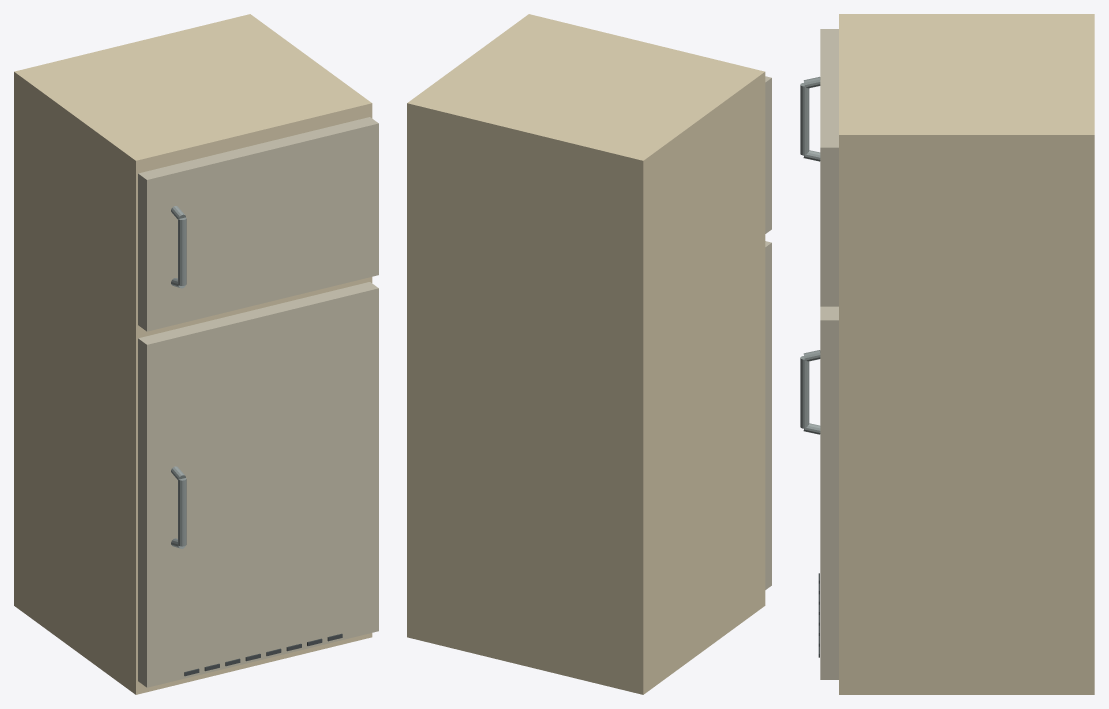
File: YARD_Fridge.glb
The picture shows the model from 3 angles, left to right: view 1: azimuth 30°, elevation 25°; view 2: azimuth 150°, elevation 25°; view 3: azimuth 270°, elevation 25°; orthographic projection. The views are drawn at different scales.
Parts seen in each view (by area): view 1: Doors, Cabinet, Pulls, Grille; view 2: Cabinet, Doors; view 3: Cabinet, Doors, Pulls.
Part boxes in pixels (box(x1,y1,x2,y2)): Doors: box(138, 117, 378, 687); Cabinet: box(14, 14, 372, 694); Pulls: box(171, 206, 186, 548); Grille: box(184, 633, 342, 676); Cabinet: box(407, 14, 765, 694); Doors: box(765, 76, 771, 589); Cabinet: box(839, 14, 1094, 694); Doors: box(820, 29, 838, 679); Pulls: box(800, 76, 820, 434).
Size of the model in its own units: 0.75 by 1.62 by 0.772.
